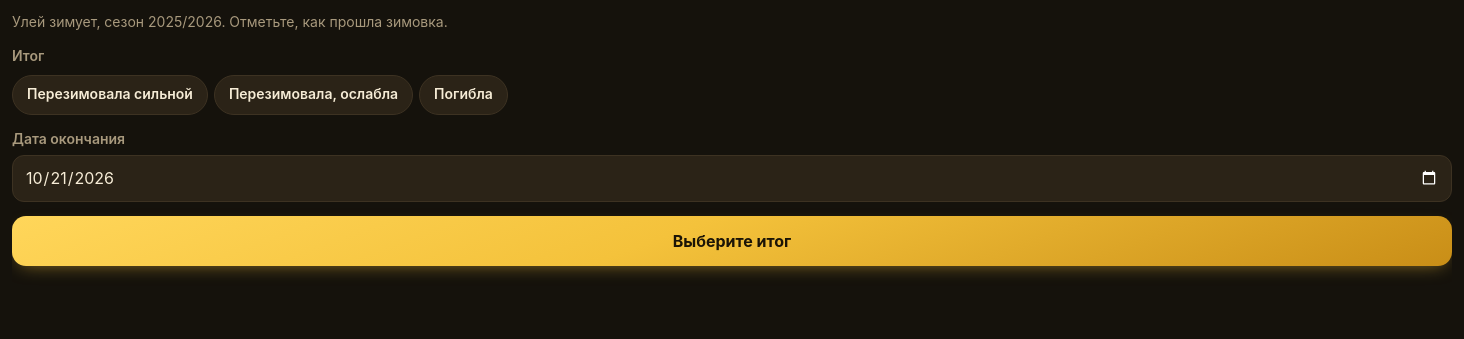
Test: Wintering form › offers to finish an open wintering and warns when the colony died
The width and height of the screenshot is (1464, 339).
Expected: the text "Улей зимует, сезон 2025/2026. Отметьте, как прошла зимовка." is shown, 12,13 -> 448,30
Click the radio button labelled "Погибла": click(463, 95) 419,75 -> 508,115
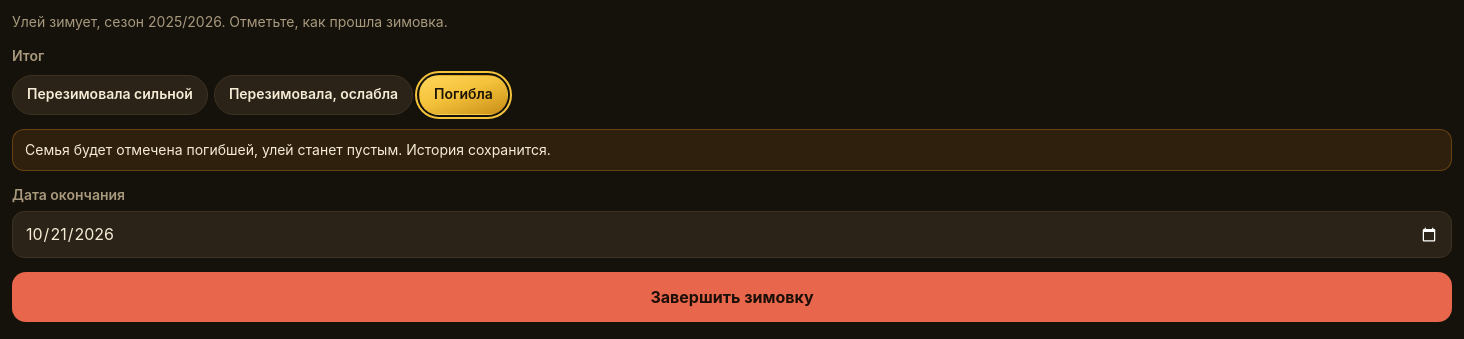
Now the text "Семья будет отмечена погибшей" is shown, box 25,141 -> 551,158
